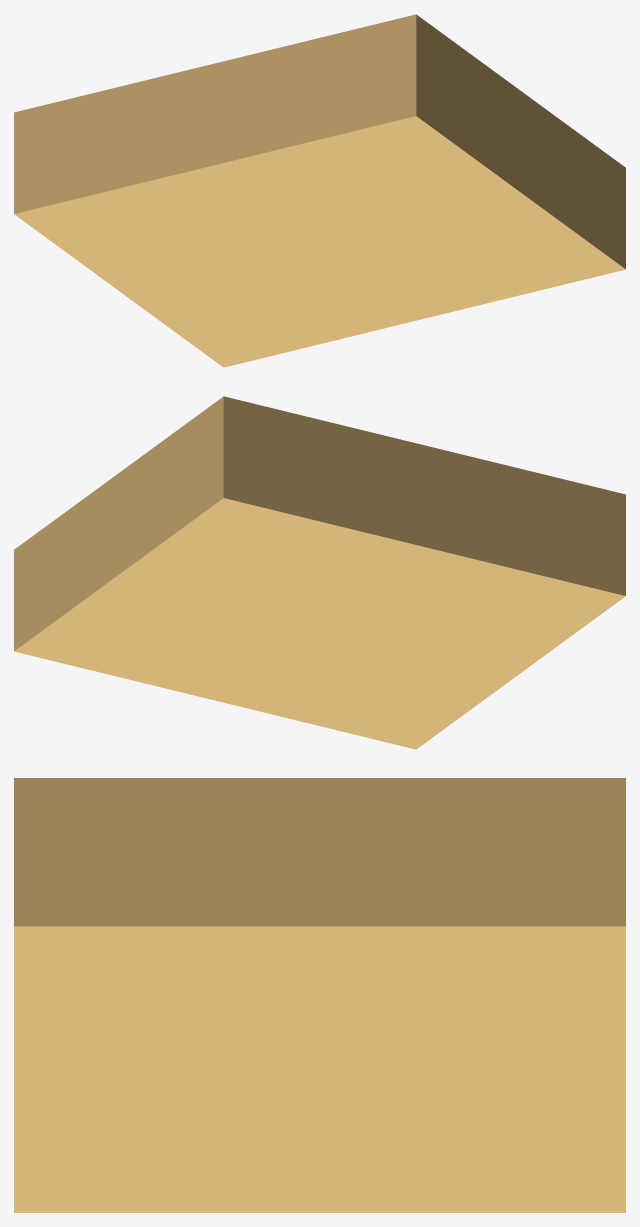
Rendered from templates-sacred-agni-012.glb.
3 views of the same model, one above another, from view 1: azimuth 30°, elevation 25°; view 2: azimuth 150°, elevation 25°; view 3: azimuth 270°, elevation 25° (orthographic). The views are drawn at different scales.
Parts seen in each view (by area): view 1: Sacred Agni Templates; view 2: Sacred Agni Templates; view 3: Sacred Agni Templates.
Part boxes in pixels (<box>): Sacred Agni Templates: <box>14,14,625,367</box>; Sacred Agni Templates: <box>14,396,625,749</box>; Sacred Agni Templates: <box>14,778,625,1212</box>.
Bounding box in the file's own units: 5.05 × 1.22 × 4.56.
